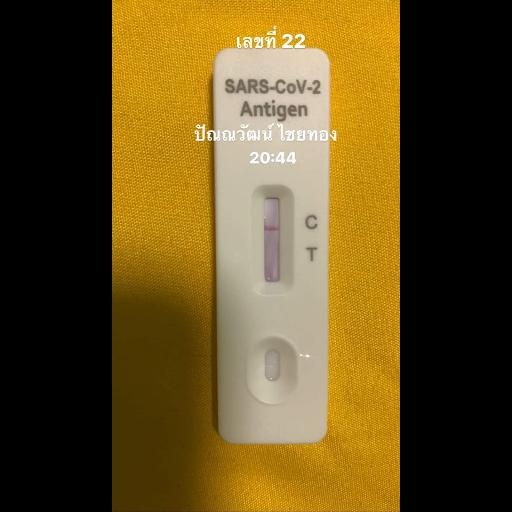Neg: (215, 50, 327, 442)
